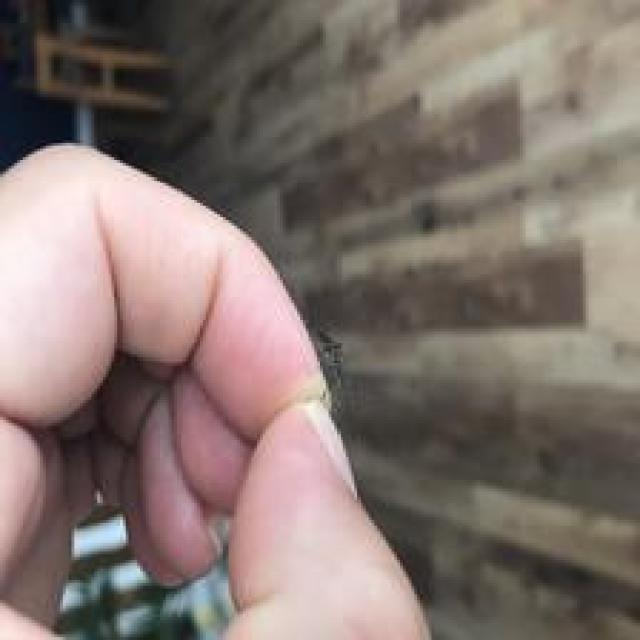Aedes albopictus: (0, 0, 183, 146)
